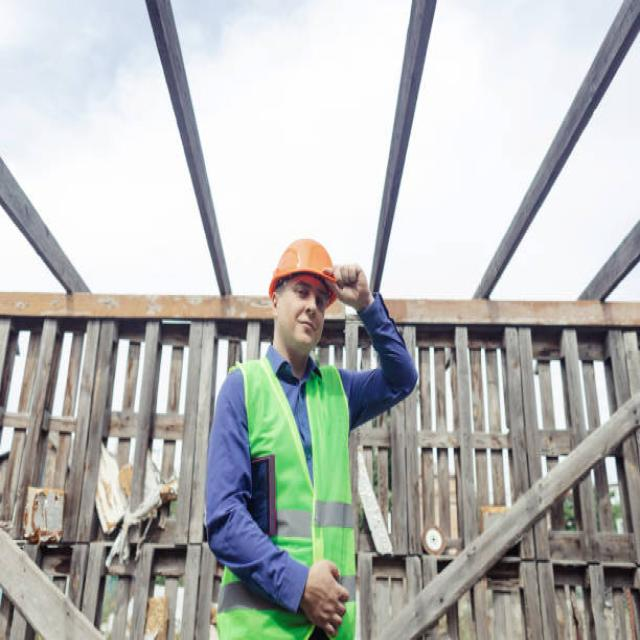without_helmet: (270, 272, 331, 362)
